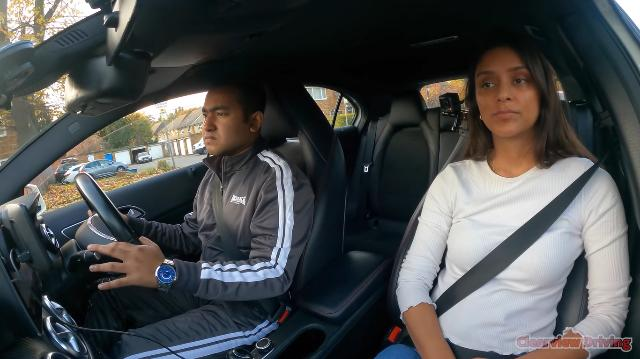seatbelt: (384, 126, 628, 332), (138, 118, 324, 304)
